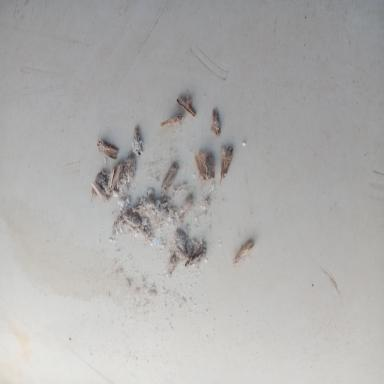pbw: (162, 160, 180, 199), (97, 128, 118, 160), (176, 88, 196, 117), (184, 241, 207, 266), (233, 241, 253, 268), (219, 147, 232, 181), (178, 193, 194, 220), (195, 151, 208, 182), (107, 164, 121, 192), (160, 113, 186, 128), (91, 182, 109, 202), (210, 106, 221, 135), (132, 125, 142, 155), (126, 154, 136, 184), (124, 208, 141, 225), (205, 152, 215, 180), (113, 213, 124, 230), (169, 250, 176, 274)
